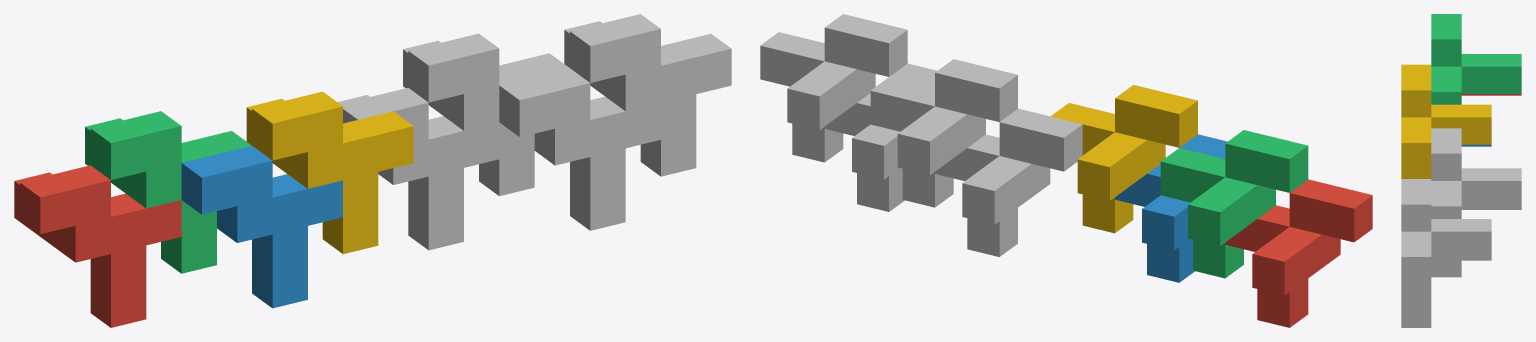
Rendered from tiling.obj.
The picture shows the model from 3 angles, left to right: view 1: azimuth 30°, elevation 25°; view 2: azimuth 150°, elevation 25°; view 3: azimuth 270°, elevation 25°; orthographic projection. The views are drawn at different scales.
Parts seen in each view (by area): view 1: copy_1_domain_1, copy_1_domain_8, copy_1_domain_4, copy_1_domain_6, copy_1_domain_2, copy_1_domain_7, copy_1_domain_3, copy_1_domain_5; view 2: copy_1_domain_7, copy_1_domain_8, copy_1_domain_3, copy_1_domain_1, copy_1_domain_5, copy_1_domain_4, copy_1_domain_2, copy_1_domain_6; view 3: copy_1_domain_8, copy_1_domain_7, copy_1_domain_4, copy_1_domain_3, copy_1_domain_5, copy_1_domain_6, copy_1_domain_1.
Part boxes in pixels (<box>): copy_1_domain_1: <box>14,165,181,327</box>; copy_1_domain_8: <box>564,14,731,176</box>; copy_1_domain_4: <box>246,91,413,254</box>; copy_1_domain_6: <box>499,68,660,230</box>; copy_1_domain_2: <box>181,146,342,308</box>; copy_1_domain_7: <box>403,33,569,195</box>; copy_1_domain_3: <box>85,111,251,273</box>; copy_1_domain_5: <box>337,88,499,250</box>; copy_1_domain_7: <box>870,59,1017,207</box>; copy_1_domain_8: <box>760,14,907,162</box>; copy_1_domain_3: <box>1160,130,1308,278</box>; copy_1_domain_1: <box>1225,179,1372,327</box>; copy_1_domain_5: <box>935,108,1082,256</box>; copy_1_domain_4: <box>1050,85,1197,233</box>; copy_1_domain_2: <box>1115,134,1227,282</box>; copy_1_domain_6: <box>824,63,937,211</box>; copy_1_domain_8: <box>1401,179,1491,325</box>; copy_1_domain_7: <box>1431,128,1521,275</box>; copy_1_domain_4: <box>1401,64,1491,178</box>; copy_1_domain_3: <box>1431,14,1521,104</box>; copy_1_domain_5: <box>1431,208,1521,277</box>; copy_1_domain_6: <box>1401,259,1491,327</box>; copy_1_domain_1: <box>1461,94,1521,95</box>.
Size of the model in its own units: 19 by 5 by 4.
